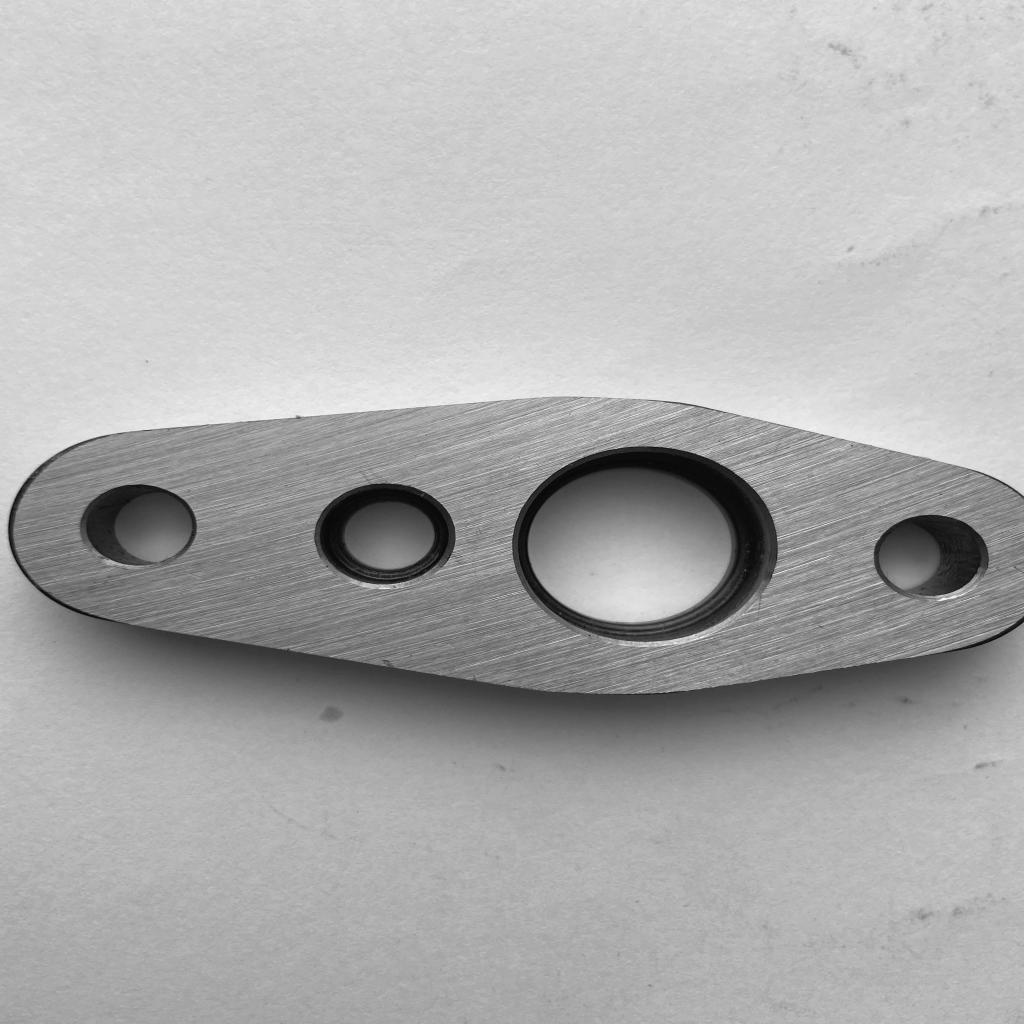lines: (348, 461, 384, 485), (1006, 564, 1024, 584)
